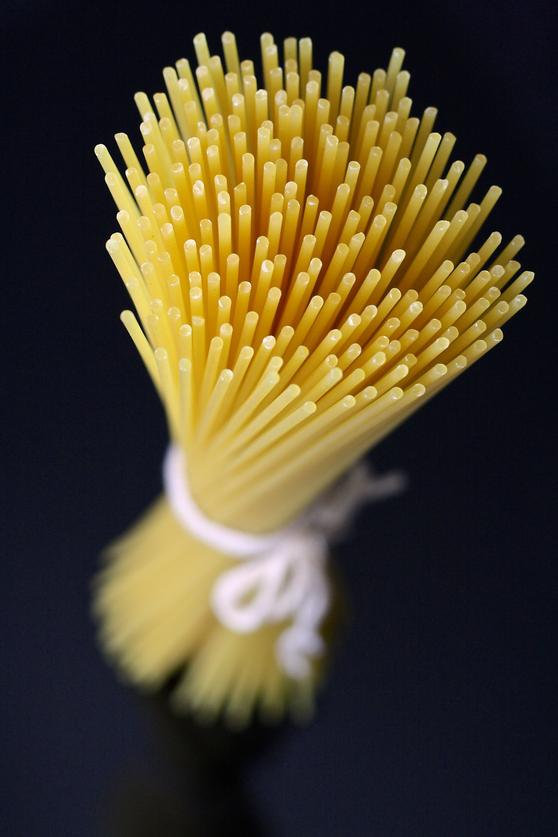spaghetti: (82, 37, 541, 524)
